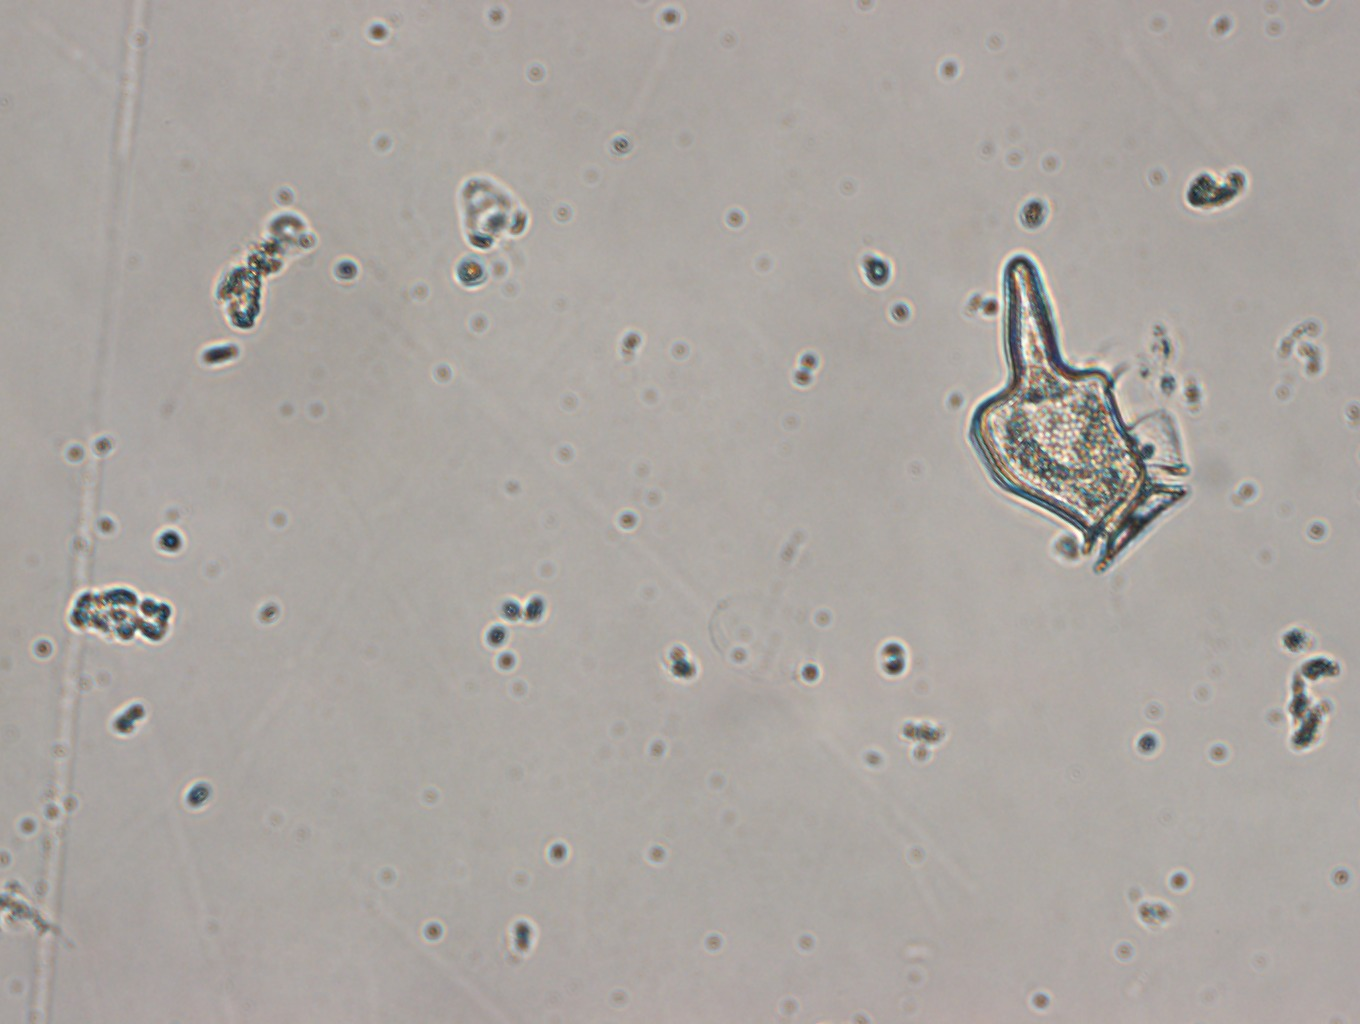dinophysis caudata: (951, 246, 1188, 572)
